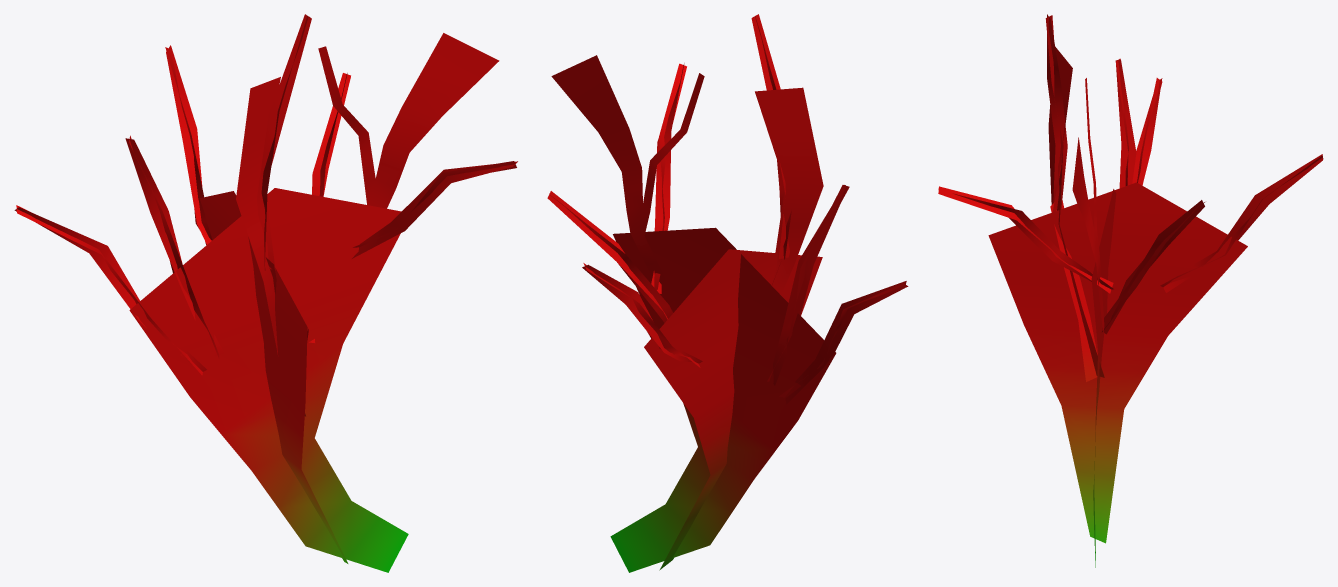
The model's file is Bilberry_LOD0_Var12_vldufeiha.fbx.
3 views of the same model, side by side, from view 1: azimuth 30°, elevation 25°; view 2: azimuth 150°, elevation 25°; view 3: azimuth 270°, elevation 25° (orthographic). The views are drawn at different scales.
Parts seen in each view (by area): view 1: _8mig_Var12_LOD0; view 2: _8mig_Var12_LOD0; view 3: _8mig_Var12_LOD0.
Part boxes in pixels (x1,y1,x2,y2): _8mig_Var12_LOD0: [14, 14, 517, 572]; _8mig_Var12_LOD0: [547, 14, 908, 572]; _8mig_Var12_LOD0: [938, 14, 1323, 567].
Size of the model in its own units: 12.8 by 17.1 by 11.65.
